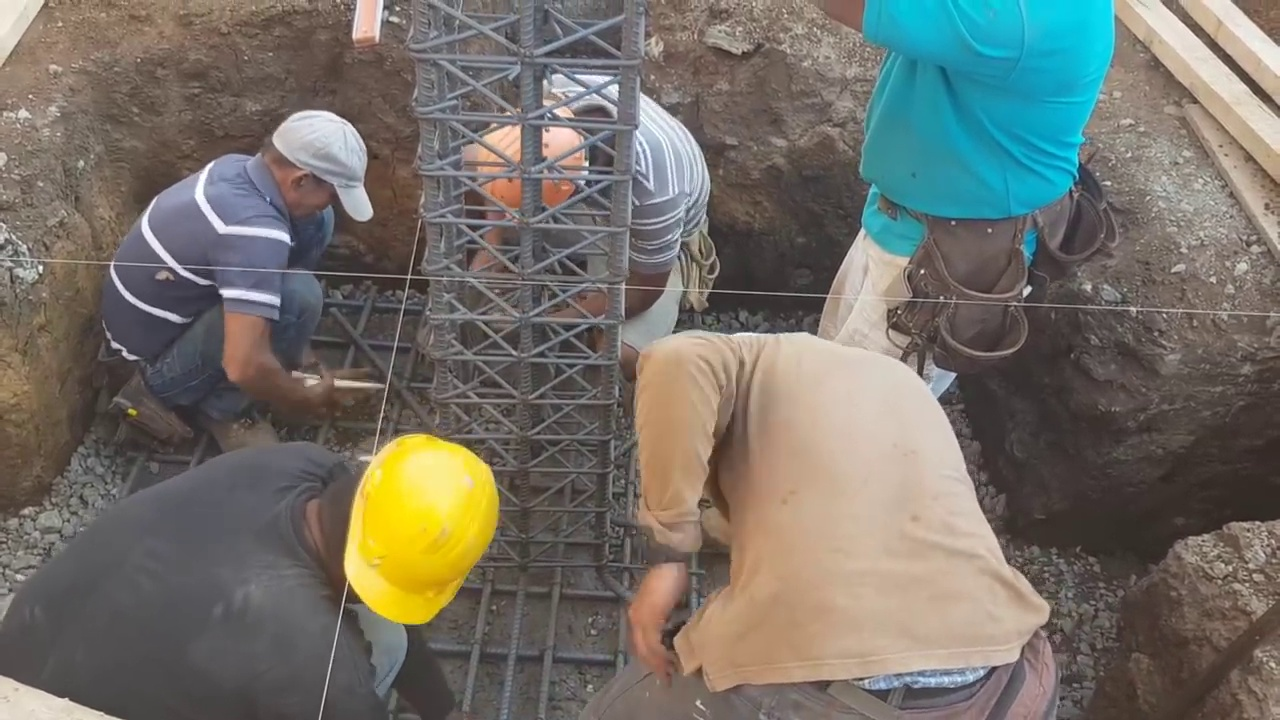helmet: (343, 435, 501, 627), (474, 94, 584, 212)
helmet-off: (260, 111, 374, 227)
helmet-on: (296, 432, 505, 629), (472, 84, 621, 215)
person: (577, 332, 1063, 719), (1, 430, 506, 717), (802, 2, 1117, 398), (93, 111, 373, 447), (470, 63, 711, 378)
